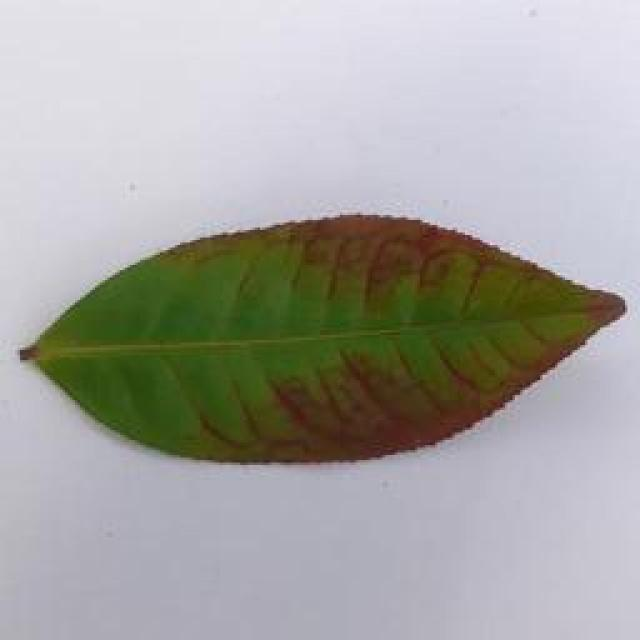Red Leaf Spot: (7, 194, 640, 477)
